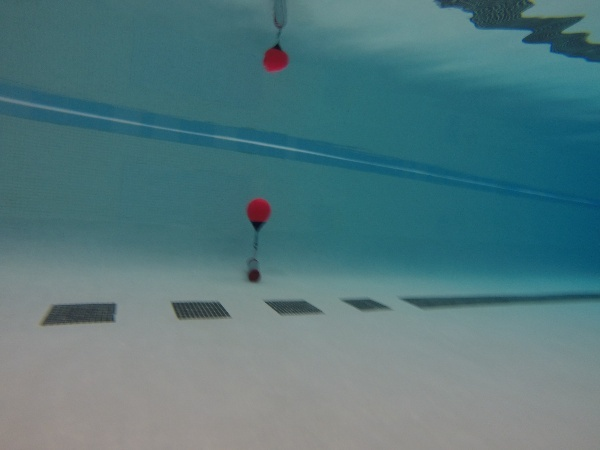buoy_red: (245, 197, 271, 230)
